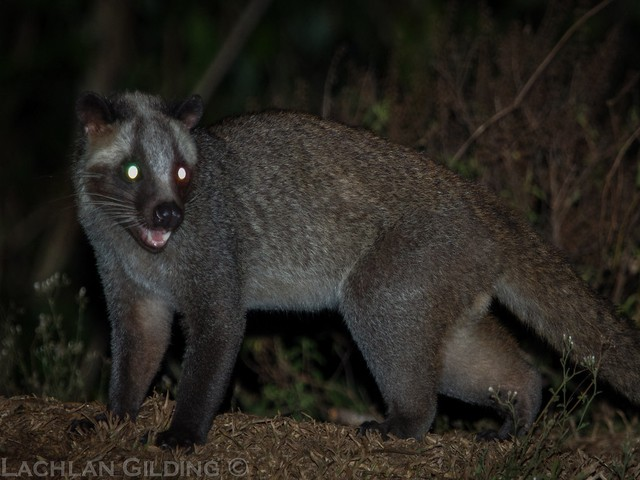civet: (65, 85, 630, 448)
